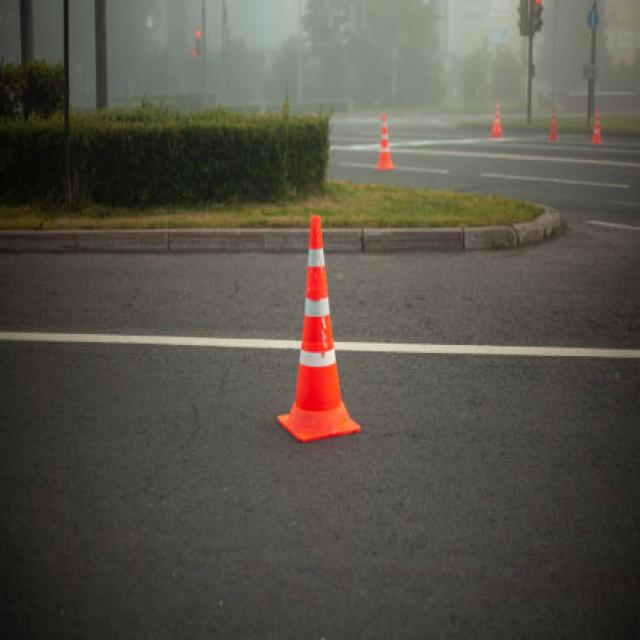Traffic Cone: (252, 211, 384, 453), (366, 103, 402, 174), (486, 89, 511, 148)
